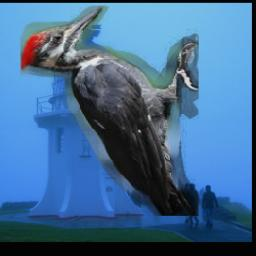Woodpecker: (20, 7, 199, 217)
